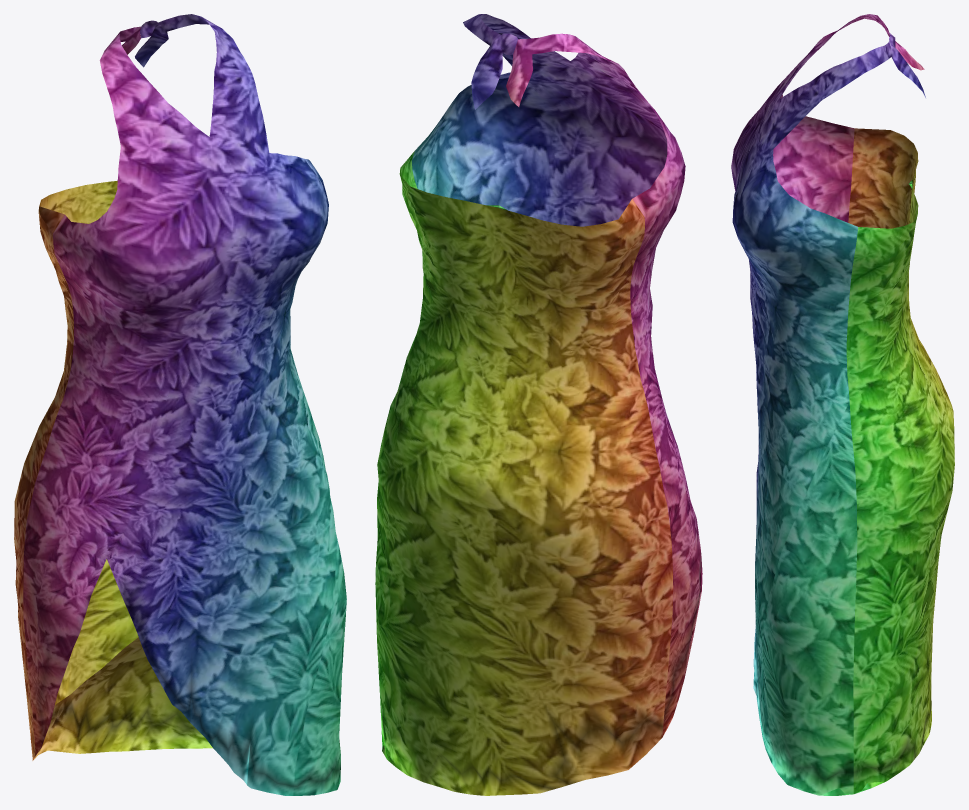
Rendered from elvs-sarong-cover-up.glb.
The picture shows the model from 3 angles, left to right: view 1: azimuth 30°, elevation 25°; view 2: azimuth 150°, elevation 25°; view 3: azimuth 270°, elevation 25°; orthographic projection. The views are drawn at different scales.
Parts seen in each view (by area): view 1: Human.elvs_sarong_cover_up; view 2: Human.elvs_sarong_cover_up; view 3: Human.elvs_sarong_cover_up.
Boxes of the visible parts, left/top/right/bottom form: Human.elvs_sarong_cover_up: left=14, top=14, right=346, bottom=795; Human.elvs_sarong_cover_up: left=375, top=14, right=702, bottom=795; Human.elvs_sarong_cover_up: left=731, top=14, right=954, bottom=795.
Size of the model in its own units: 0.3925 by 0.9578 by 0.2783.
Materials: 1 (1 with a texture image).
